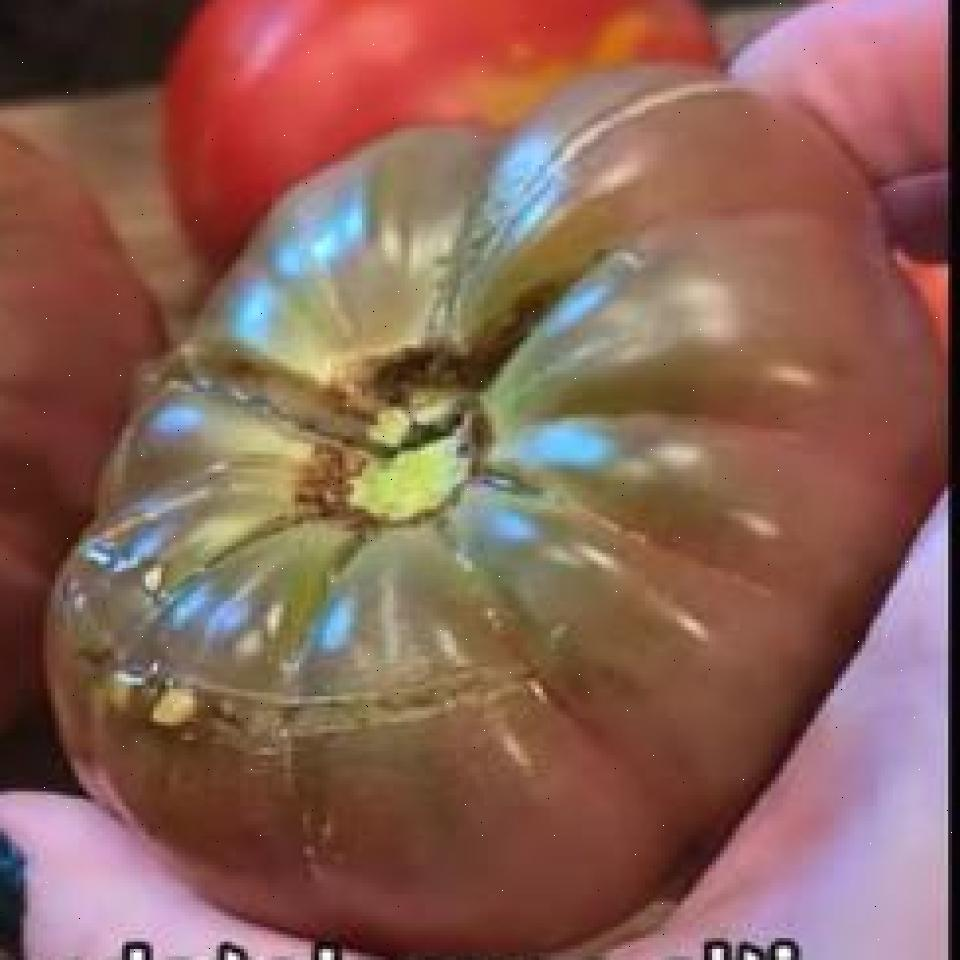Cracking: (57, 620, 561, 758)
